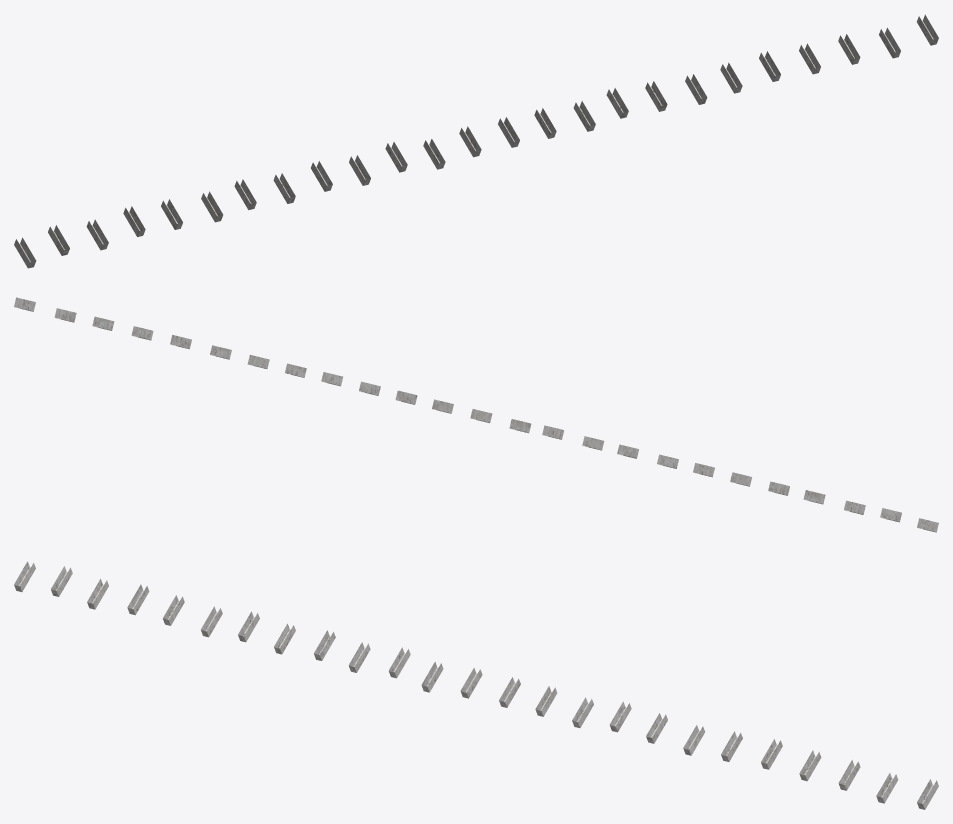
Rendered from barnOuterTimbers_02.FBX.
3 views of the same model, one above another, from view 1: azimuth 30°, elevation 25°; view 2: azimuth 150°, elevation 25°; view 3: azimuth 330°, elevation 25° (orthographic).
Parts seen in each view (by area): view 1: barnOuterTimbers_02; view 2: barnOuterTimbers_02; view 3: barnOuterTimbers_02.
Boxes of the visible parts, x1,y1,x2,y2 form: barnOuterTimbers_02: [14, 14, 938, 268]; barnOuterTimbers_02: [14, 297, 938, 532]; barnOuterTimbers_02: [14, 561, 938, 809].
Size of the model in its own units: 2102 by 56.33 by 75.95.
